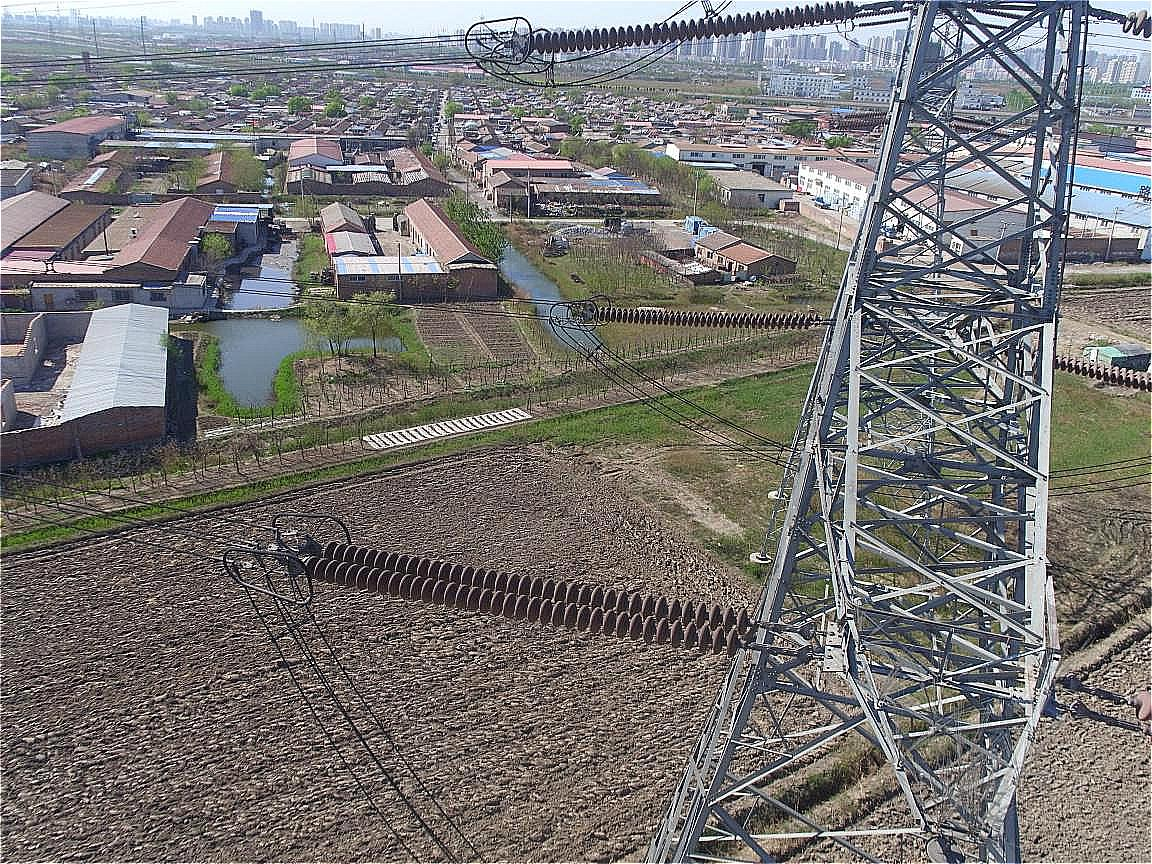insultor1: (263, 528, 773, 645), (505, 1, 860, 70), (571, 285, 823, 337)
